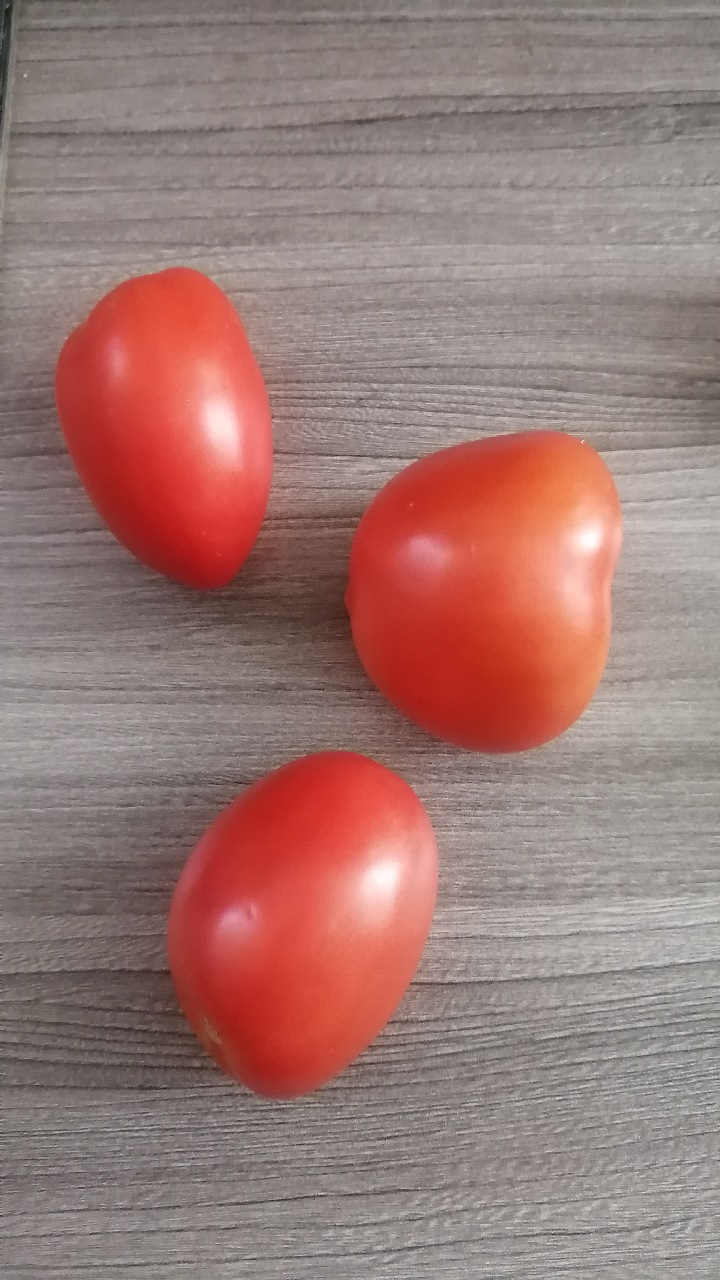tomateRojo: (146, 742, 461, 1112), (340, 409, 646, 777), (41, 245, 286, 608)
